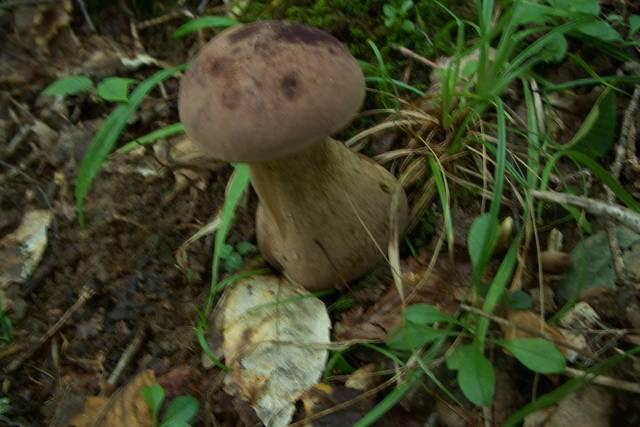poisonous_mushroom: (176, 18, 410, 293)
